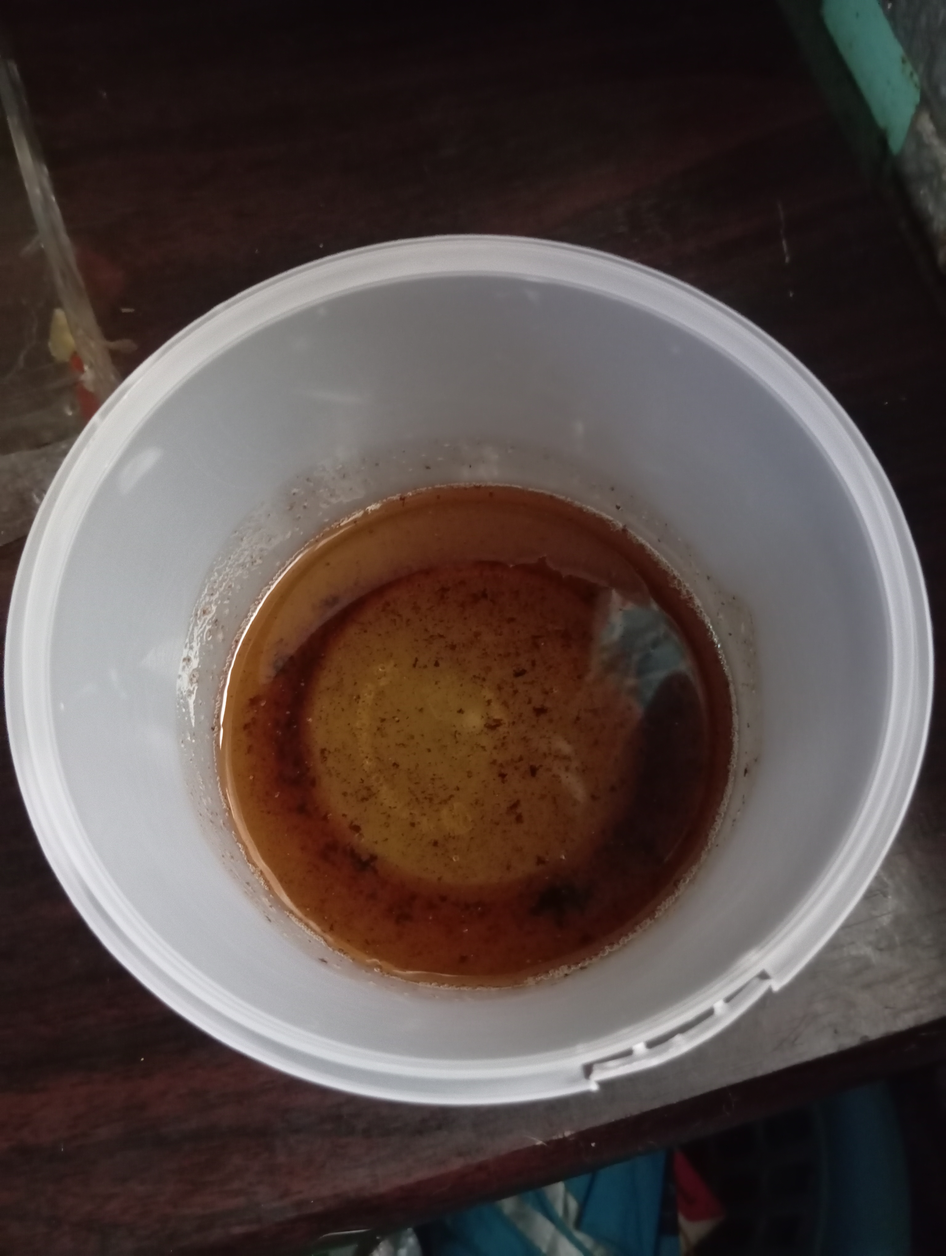non-reusable: (228, 489, 724, 988)
